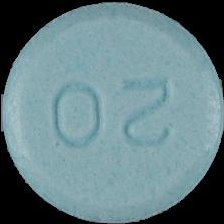0615-2562: (0, 0, 224, 224)
